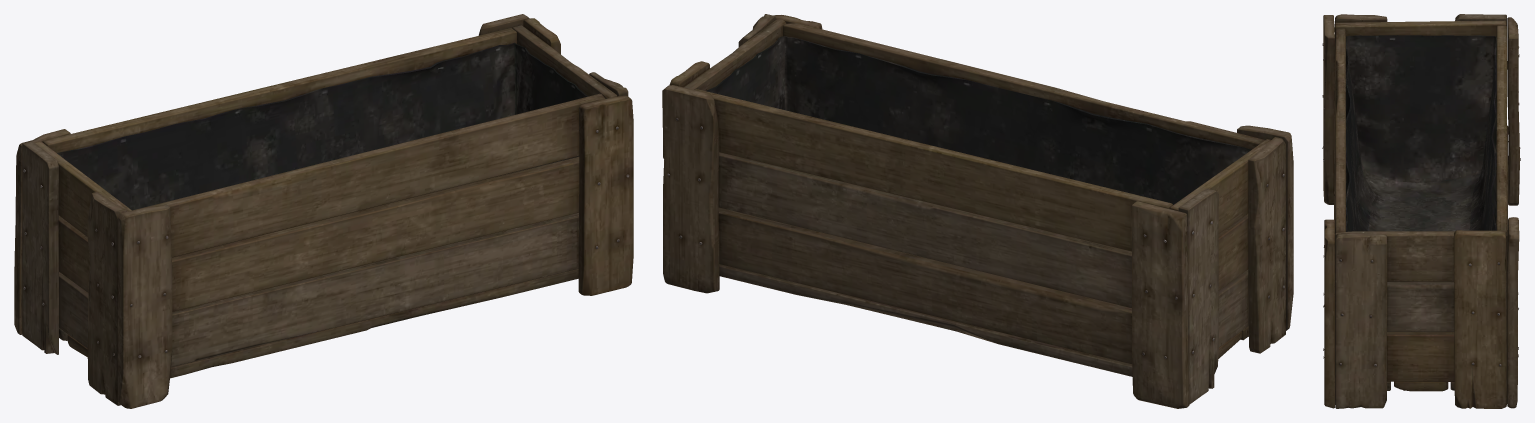
Rendered from planter_box_02.glb.
3 views of the same model, side by side, from view 1: azimuth 30°, elevation 25°; view 2: azimuth 150°, elevation 25°; view 3: azimuth 270°, elevation 25° (orthographic). The views are drawn at different scales.
Parts seen in each view (by area): view 1: planter_box_02; view 2: planter_box_02; view 3: planter_box_02.
Part boxes in pixels (x1,y1,x2,y2): planter_box_02: [14, 14, 633, 408]; planter_box_02: [662, 14, 1293, 408]; planter_box_02: [1322, 14, 1520, 408].
Size of the model in its own units: 1.25 by 0.4534 by 0.4672.
1 material, 1 textured.
